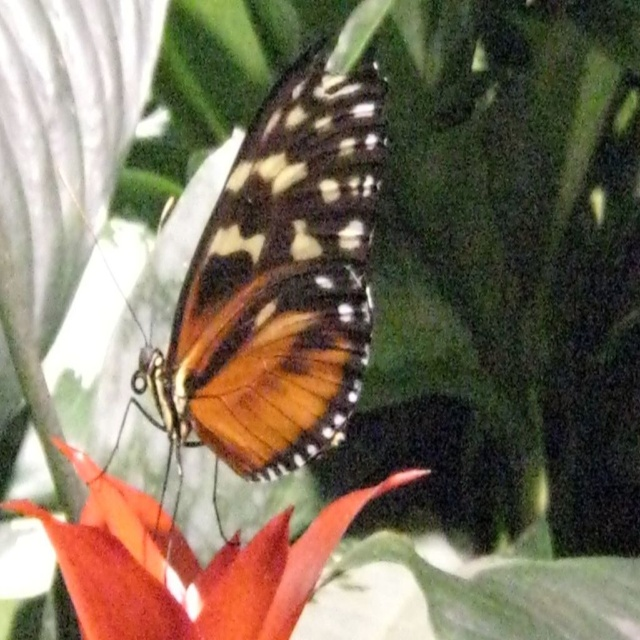Butterfly: (114, 26, 400, 529)
